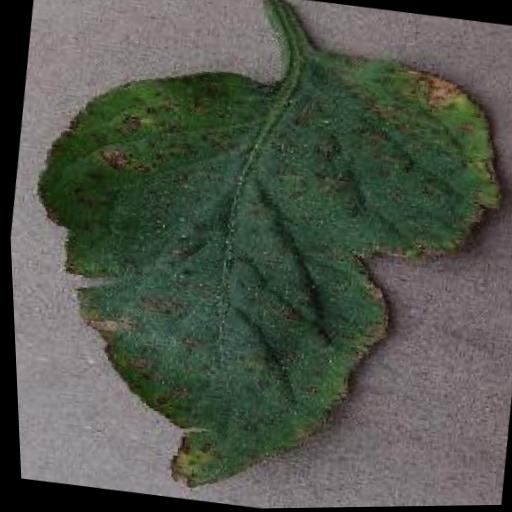Bacterial Spot: (1, 9, 512, 512)
